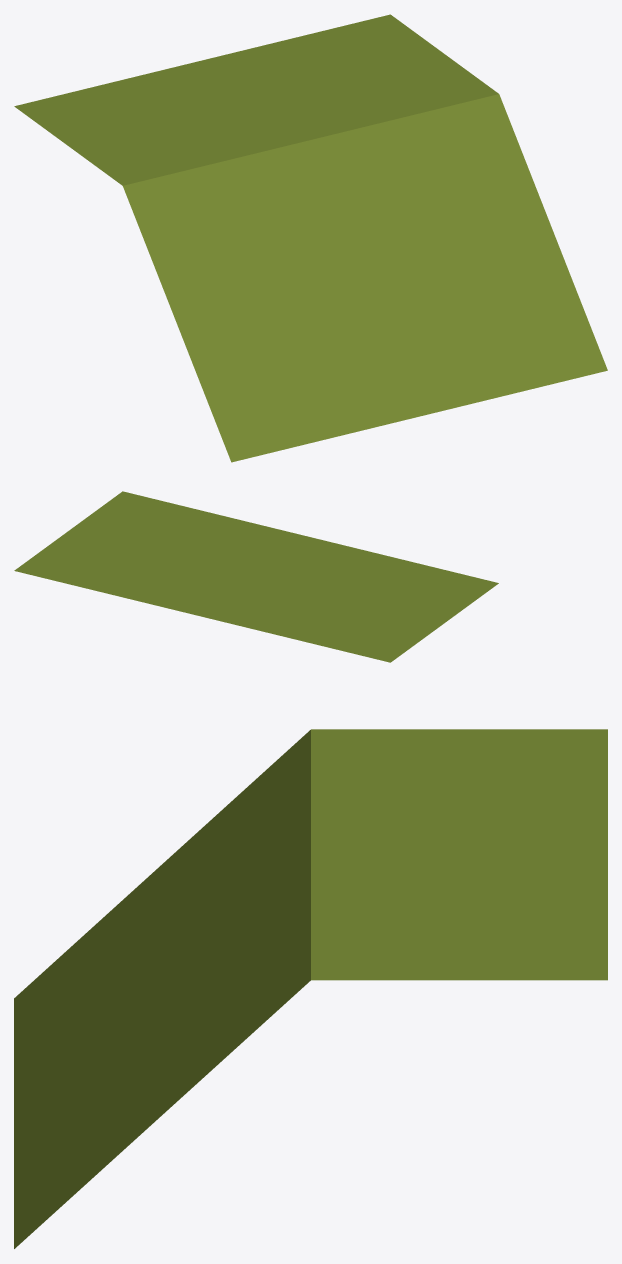
Rendered from hill.gltf.
3 views of the same model, one above another, from view 1: azimuth 30°, elevation 25°; view 2: azimuth 150°, elevation 25°; view 3: azimuth 270°, elevation 25° (orthographic). The views are drawn at different scales.
Parts seen in each view (by area): view 1: hill; view 2: hill; view 3: hill.
Part boxes in pixels (left/top/right/bottom): hill: left=14, top=14, right=607, bottom=462; hill: left=14, top=491, right=498, bottom=662; hill: left=14, top=729, right=607, bottom=1248.
Size of the model in its own units: 4 by 2 by 4.
